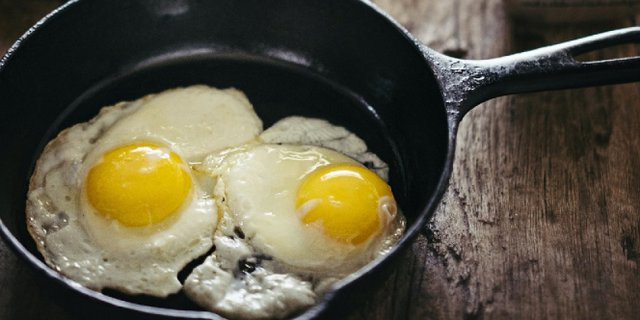Telur: (215, 79, 387, 269), (53, 103, 225, 277)
